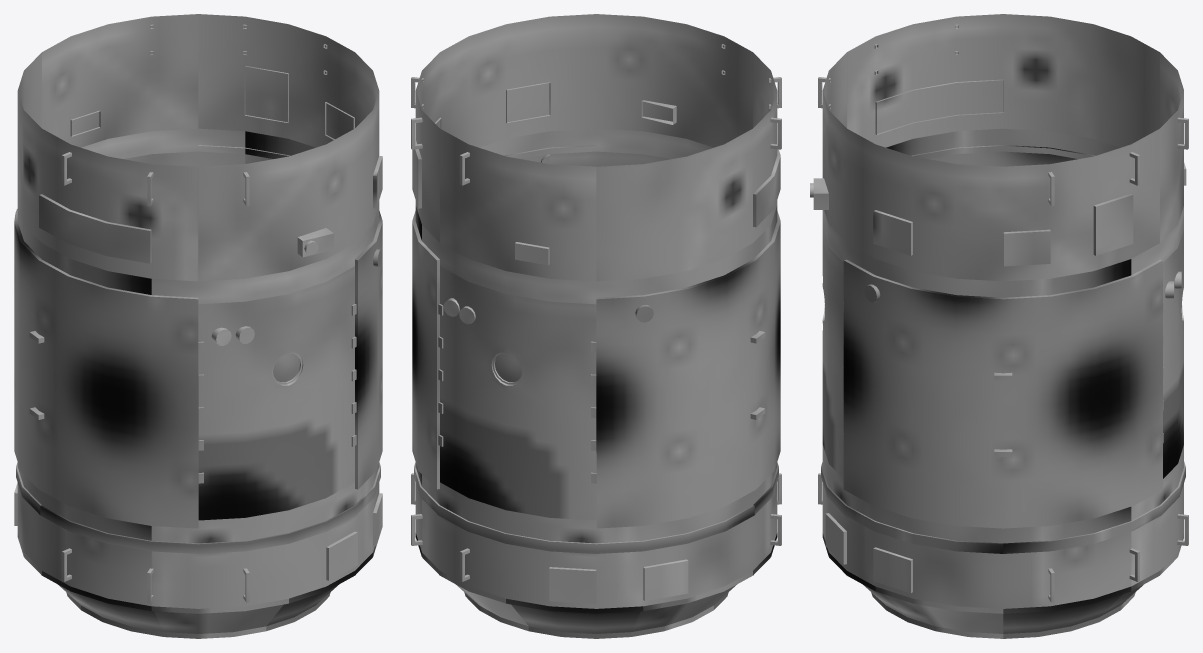
The model's file is lab.fbx.
The picture shows the model from 3 angles, left to right: view 1: azimuth 30°, elevation 25°; view 2: azimuth 150°, elevation 25°; view 3: azimuth 270°, elevation 25°; orthographic projection.
Visible parts, largest first — view 1: mesh, windows; view 2: mesh, windows; view 3: mesh.
Boxes of the visible parts, x1,y1,x2,y2 form: mesh: [14, 14, 382, 638]; windows: [273, 353, 299, 382]; mesh: [411, 14, 781, 638]; windows: [495, 353, 521, 382]; mesh: [810, 14, 1188, 638].
Bounding box in the file's own units: 2.63 × 3.75 × 2.62.
